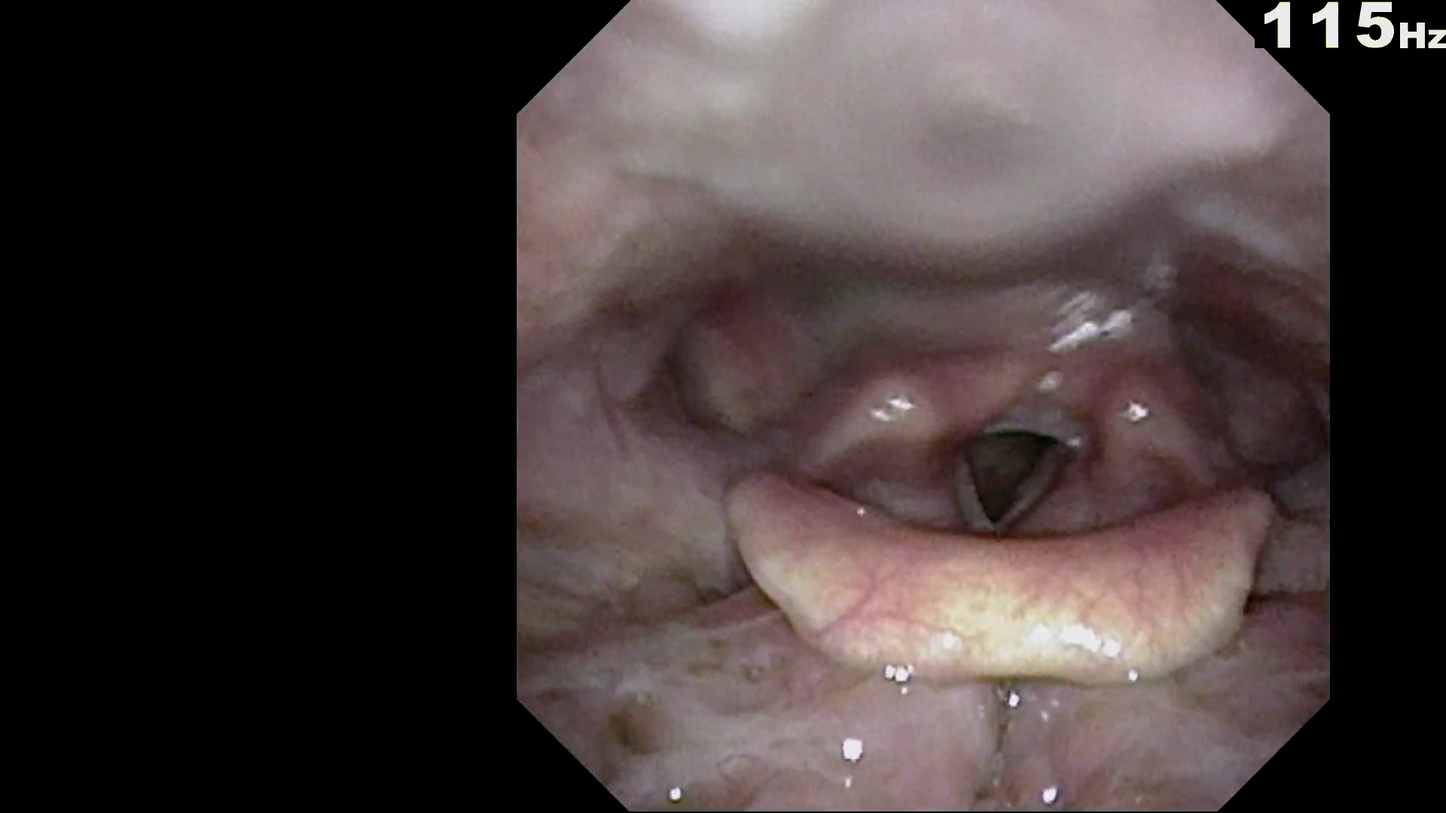epiglottis: (700, 486, 1309, 691)
trachea: (953, 405, 1076, 548), (931, 426, 1061, 499)
